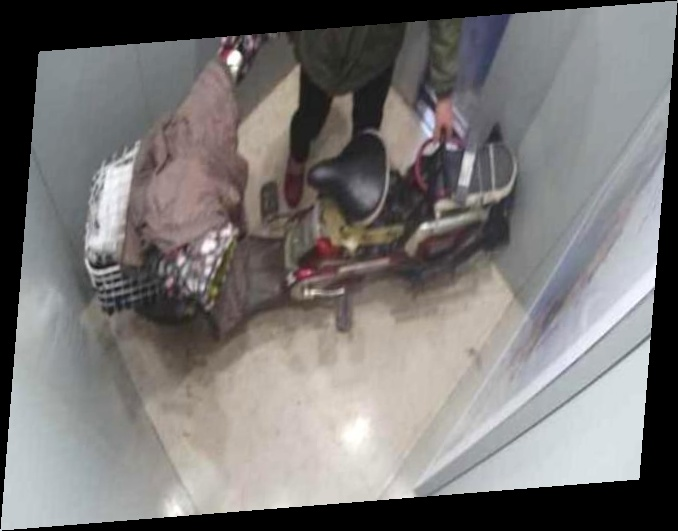electromobile: (69, 98, 528, 339)
